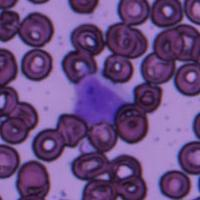M: (70, 74, 125, 125)
